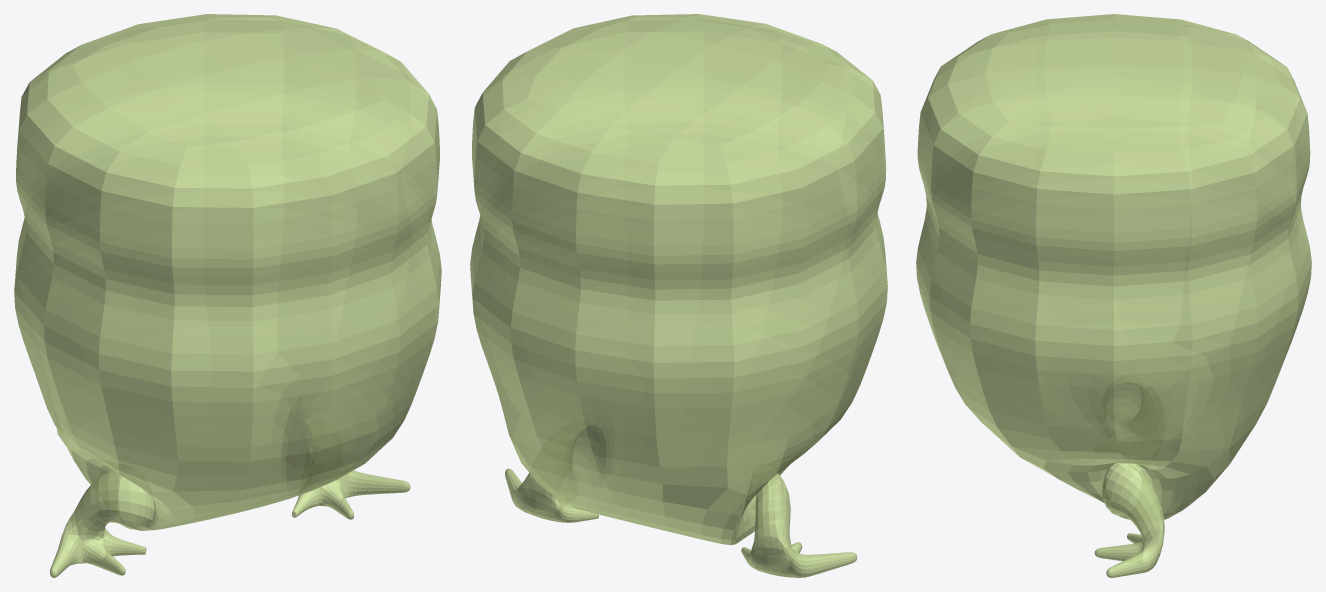
3 views of the same model, side by side, from view 1: azimuth 30°, elevation 25°; view 2: azimuth 150°, elevation 25°; view 3: azimuth 270°, elevation 25° (orthographic). The views are drawn at different scales.
Visible parts, largest first — view 1: Plane.005; view 2: Plane.005; view 3: Plane.005.
Part boxes in pixels (bbox=[...]): Plane.005: bbox=[14, 14, 441, 577]; Plane.005: bbox=[470, 14, 887, 577]; Plane.005: bbox=[916, 14, 1311, 577].
Size of the model in its own units: 1.07 by 1.32 by 1.07.
